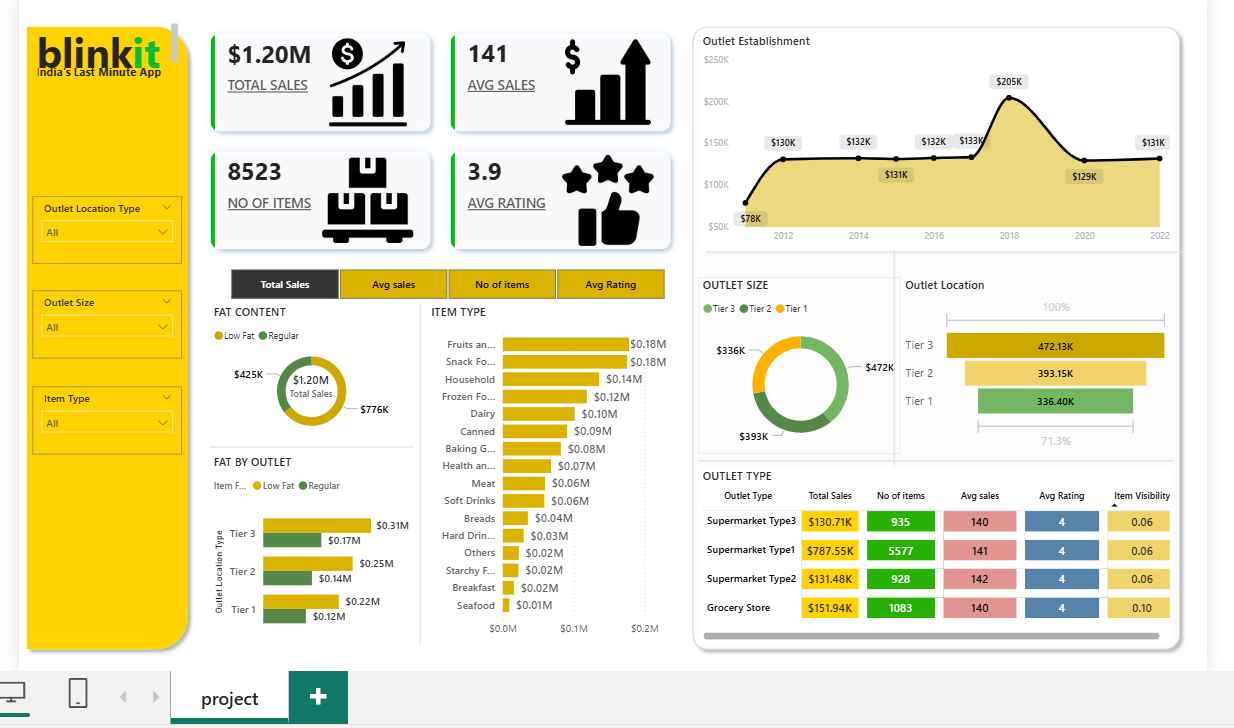

The dashboard page shown, as its layout file describes it:
{"tool":"powerbi","page":{"name":"project","canvas":[1400,800],"ordinal":0},"visuals":[{"type":"shape","box":[0,32,208,752],"z":0},{"type":"textbox","box":[16,32,176,64],"z":2000},{"type":"textbox","box":[16,80,176,32],"z":3000},{"type":"cardVisual","fields":{"Data":["BlinkIT Grocery Data.Total sales","BlinkIT Grocery Data.Avg sales","BlinkIT Grocery Data.No of items","BlinkIT Grocery Data.Avg Rating"]},"box":[208,32,576,288],"z":4000},{"type":"shape","box":[784,32,592,752],"z":5000},{"type":"slicer","fields":{"Values":["matrix.matrix"]},"box":[224,320,560,48],"z":6000},{"type":"donutChart","title":" FAT CONTENT","fields":{"Y":["BlinkIT Grocery Data.Total Sales"],"Category":["BlinkIT Grocery Data.Item Fat Content"]},"box":[224,368,240,160],"z":7000},{"type":"cardVisual","fields":{"Data":["BlinkIT Grocery Data.Total Sales"]},"box":[288,416,112,96],"z":8000},{"type":"clusteredBarChart","title":"FAT BY OUTLET","fields":{"Category":["BlinkIT Grocery Data.Outlet Location Type"],"Series":["BlinkIT Grocery Data.Item Fat Content"],"Y":["BlinkIT Grocery Data.Total Sales"]},"box":[224,544,240,224],"z":9000},{"type":"shape","box":[224,528,240,16],"z":10000},{"type":"shape","box":[464,368,16,400],"z":11000},{"type":"clusteredBarChart","title":"ITEM TYPE","fields":{"Category":["BlinkIT Grocery Data.Item Type"],"Y":["BlinkIT Grocery Data.Total Sales"]},"box":[480,368,304,400],"z":12000},{"type":"lineChart","title":"Outlet Establishment","fields":{"Category":["BlinkIT Grocery Data.Outlet Establishment Year"],"Y":["BlinkIT Grocery Data.Total Sales"]},"box":[800,48,560,256],"z":13000},{"type":"shape","box":[800,544,560,16],"z":14000},{"type":"donutChart","title":"OUTLET SIZE","fields":{"Y":["BlinkIT Grocery Data.Total Sales"],"Category":["BlinkIT Grocery Data.Outlet Location Type"]},"box":[800,336,240,208],"z":15000},{"type":"shape","box":[1024,304,16,256],"z":16000},{"type":"funnel","title":"Outlet Location","fields":{"Y":["Sum(BlinkIT Grocery Data.Sales)"],"Category":["BlinkIT Grocery Data.Outlet Location Type"]},"box":[1040,336,320,208],"z":17000},{"type":"shape","box":[810,298,560,16],"z":18000},{"type":"pivotTable","title":"OUTLET TYPE","fields":{"Values":["BlinkIT Grocery Data.Total Sales","BlinkIT Grocery Data.No of items","BlinkIT Grocery Data.Avg sales","BlinkIT Grocery Data.Avg Rating","Avg(BlinkIT Grocery Data.Item Visibility)"],"Rows":["BlinkIT Grocery Data.Outlet Type"]},"box":[800,560,560,208],"z":19000},{"type":"slicer","fields":{"Values":["BlinkIT Grocery Data.Outlet Location Type"]},"box":[16,240,176,80],"z":20000},{"type":"slicer","fields":{"Values":["BlinkIT Grocery Data.Outlet Size"]},"box":[16,352,176,80],"z":21000},{"type":"slicer","fields":{"Values":["BlinkIT Grocery Data.Item Type"]},"box":[16,464,176,80],"z":22000}]}

Visuals, with their boxes on the page's 1400x800 design canvas (x1, y1, x2, y2). These are canvas units, not pixel positions in the 1234x728 screenshot, which may show the page scaled, cropped or inside an application window:
shape: [x1=0, y1=32, x2=208, y2=784]
textbox: [x1=16, y1=32, x2=192, y2=96]
textbox: [x1=16, y1=80, x2=192, y2=112]
cardVisual - BlinkIT Grocery Data.Total sales x BlinkIT Grocery Data.Avg sales: [x1=208, y1=32, x2=784, y2=320]
shape: [x1=784, y1=32, x2=1376, y2=784]
slicer - matrix.matrix: [x1=224, y1=320, x2=784, y2=368]
" FAT CONTENT" donutChart: [x1=224, y1=368, x2=464, y2=528]
cardVisual - BlinkIT Grocery Data.Total Sales: [x1=288, y1=416, x2=400, y2=512]
"FAT BY OUTLET" clusteredBarChart: [x1=224, y1=544, x2=464, y2=768]
shape: [x1=224, y1=528, x2=464, y2=544]
shape: [x1=464, y1=368, x2=480, y2=768]
"ITEM TYPE" clusteredBarChart: [x1=480, y1=368, x2=784, y2=768]
"Outlet Establishment" lineChart: [x1=800, y1=48, x2=1360, y2=304]
shape: [x1=800, y1=544, x2=1360, y2=560]
"OUTLET SIZE" donutChart: [x1=800, y1=336, x2=1040, y2=544]
shape: [x1=1024, y1=304, x2=1040, y2=560]
"Outlet Location" funnel: [x1=1040, y1=336, x2=1360, y2=544]
shape: [x1=810, y1=298, x2=1370, y2=314]
"OUTLET TYPE" pivotTable: [x1=800, y1=560, x2=1360, y2=768]
slicer - BlinkIT Grocery Data.Outlet Location Type: [x1=16, y1=240, x2=192, y2=320]
slicer - BlinkIT Grocery Data.Outlet Size: [x1=16, y1=352, x2=192, y2=432]
slicer - BlinkIT Grocery Data.Item Type: [x1=16, y1=464, x2=192, y2=544]
